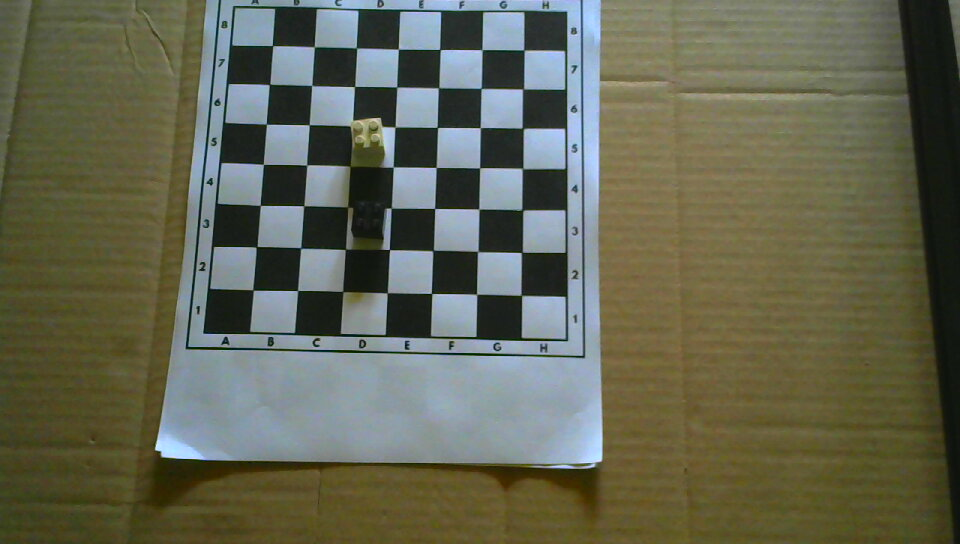bp: (350, 198, 387, 241)
wp: (350, 116, 386, 161)
